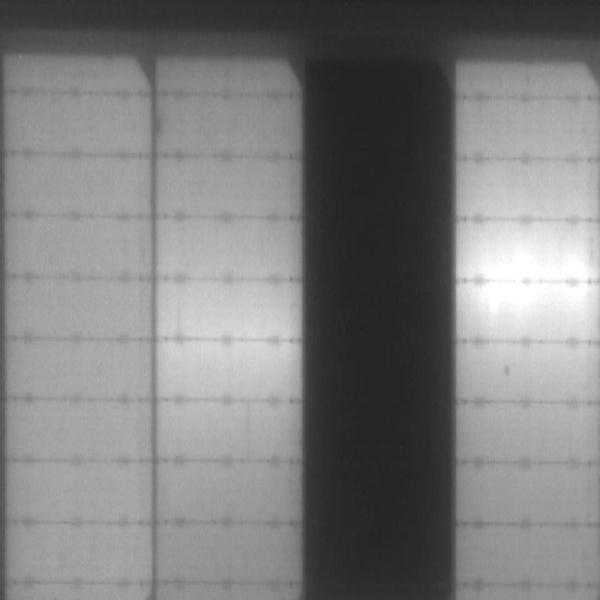hot_spot: (475, 257, 588, 278), (506, 289, 577, 305), (484, 283, 502, 315)
no_electricity: (309, 61, 455, 597)
